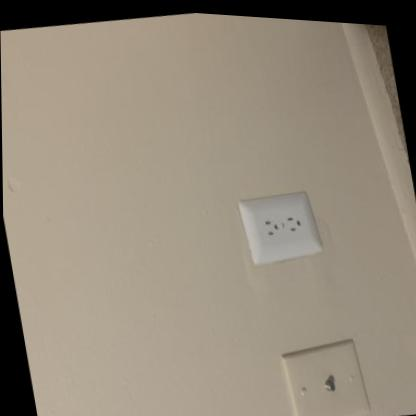OUTLET: (236, 186, 323, 269)
